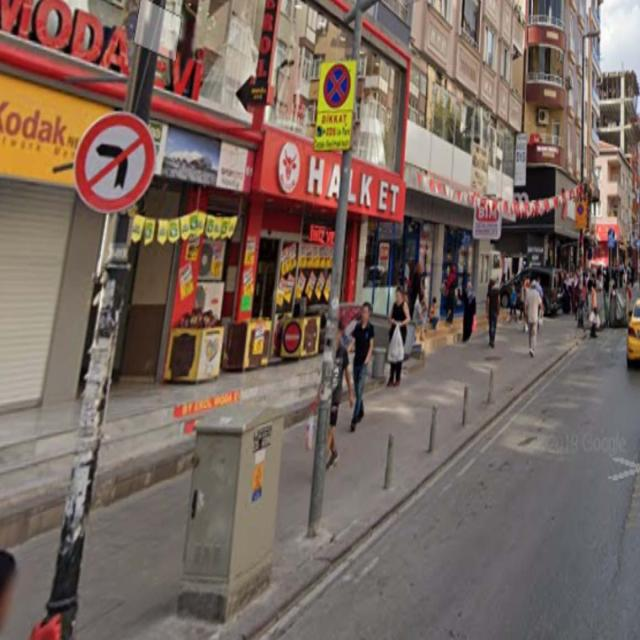soladonulmez: (76, 112, 156, 215)
